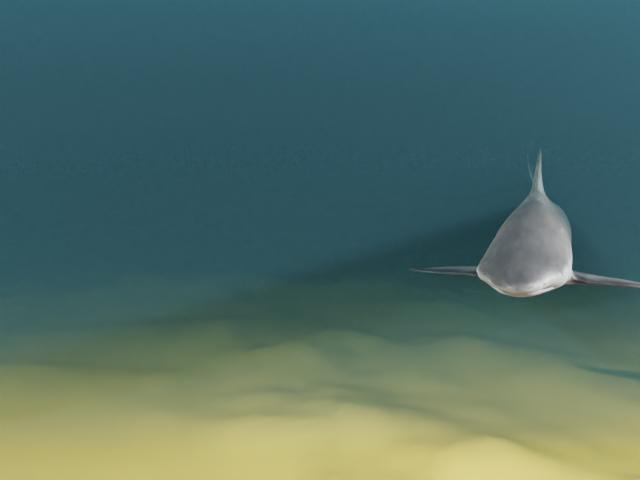Carribean Shark.001: (409, 140, 640, 297)
